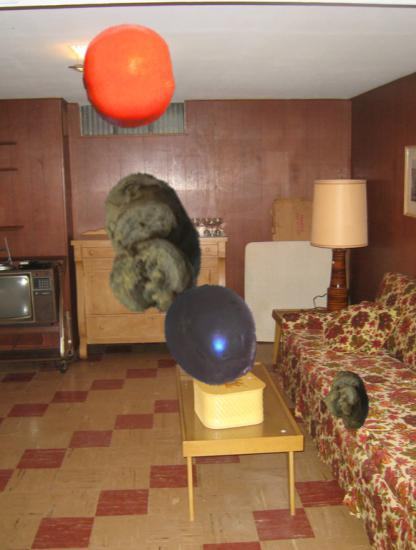Clementine: (74, 23, 182, 131)
Ginger: (73, 173, 221, 321), (316, 370, 378, 432)
Passion: (160, 285, 263, 388)
